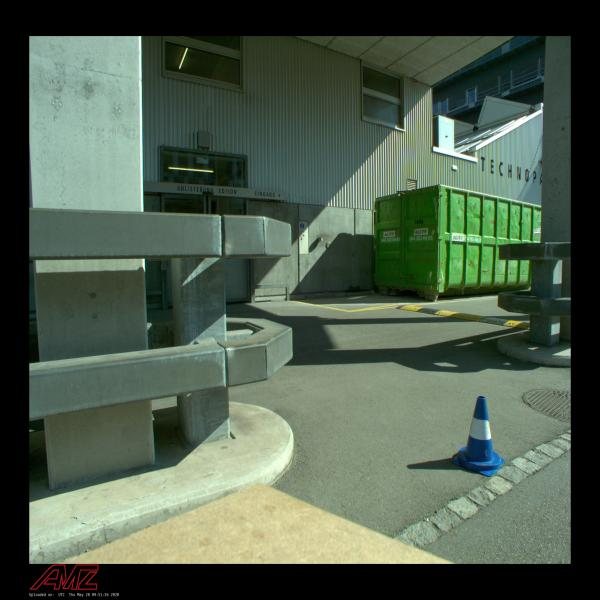blue_cone: (451, 396, 505, 476)
